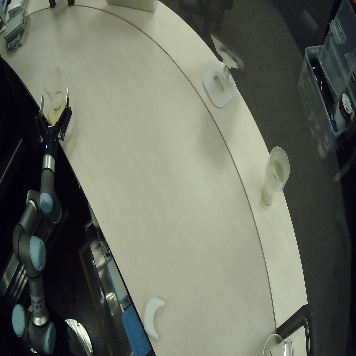empty_cup: (259, 146, 291, 206), (42, 66, 67, 110), (258, 328, 288, 356)
puck: (142, 297, 167, 341), (47, 103, 66, 124)
